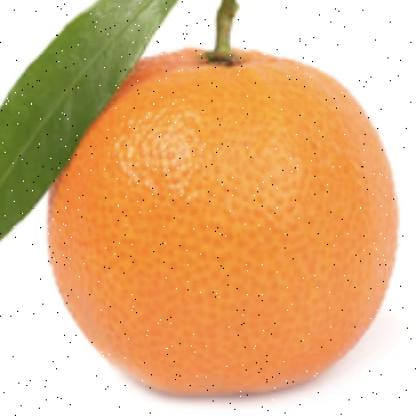fresh: (49, 41, 397, 398)
